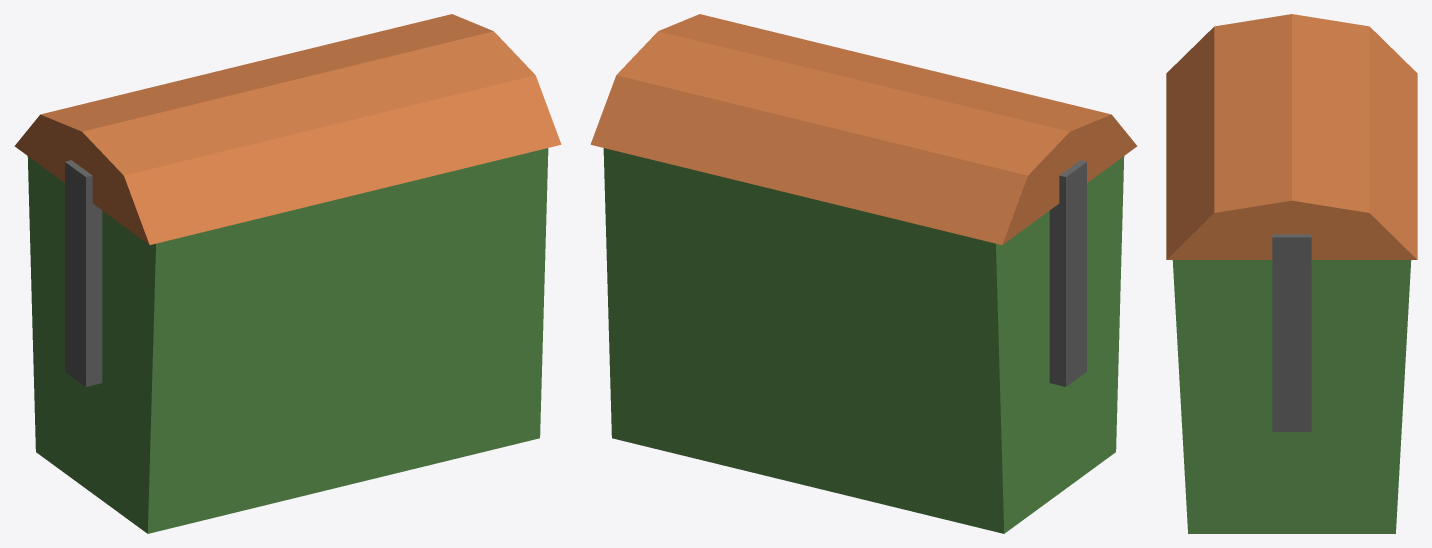
The model's file is trash_005.glb.
The picture shows the model from 3 angles, left to right: view 1: azimuth 30°, elevation 25°; view 2: azimuth 150°, elevation 25°; view 3: azimuth 270°, elevation 25°; orthographic projection. The views are drawn at different scales.
Parts seen in each view (by area): view 1: trash_005; view 2: trash_005; view 3: trash_005.
Part boxes in pixels (left/top/right/bottom): trash_005: left=14, top=14, right=561, bottom=533; trash_005: left=590, top=14, right=1137, bottom=533; trash_005: left=1166, top=14, right=1417, bottom=533.
Bounding box in the file's own units: 1.51 × 1.23 × 0.8313.
Materials: 1 (1 with a texture image).
